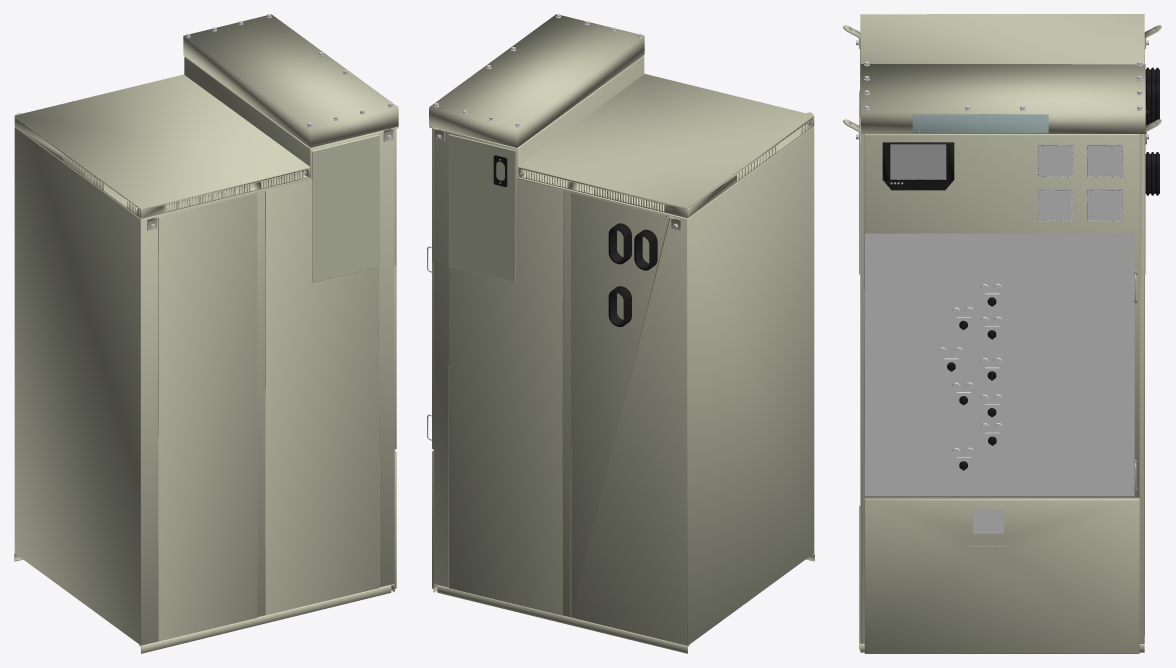
File: Drive_Tr1.fbx
The picture shows the model from 3 angles, left to right: view 1: azimuth 30°, elevation 25°; view 2: azimuth 150°, elevation 25°; view 3: azimuth 270°, elevation 25°; orthographic projection. The views are drawn at different scales.
Parts seen in each view (by area): view 1: Шкаф; view 2: Шкаф, Накладки шин; view 3: Шкаф, Схема, Подпись шкафа, Экран, Обертка экрана, Накладки шин, Экран А, Экран V, Экран var, Экран W, Предупреждающий знак.
Part boxes in pixels (<box>): Шкаф: <box>14,14,398,653</box>; Шкаф: <box>429,14,814,653</box>; Накладки шин: <box>608,223,657,326</box>; Шкаф: <box>843,14,1161,653</box>; Схема: <box>865,233,1134,496</box>; Подпись шкафа: <box>912,114,1048,133</box>; Экран: <box>890,144,946,179</box>; Обертка экрана: <box>882,142,954,190</box>; Накладки шин: <box>1145,67,1159,195</box>; Экран А: <box>1039,147,1071,175</box>; Экран V: <box>1089,147,1120,175</box>; Экран var: <box>1089,191,1120,219</box>; Экран W: <box>1039,191,1070,219</box>; Предупреждающий знак: <box>973,509,1004,533</box>.
Size of the model in its own units: 143 by 251 by 133.
